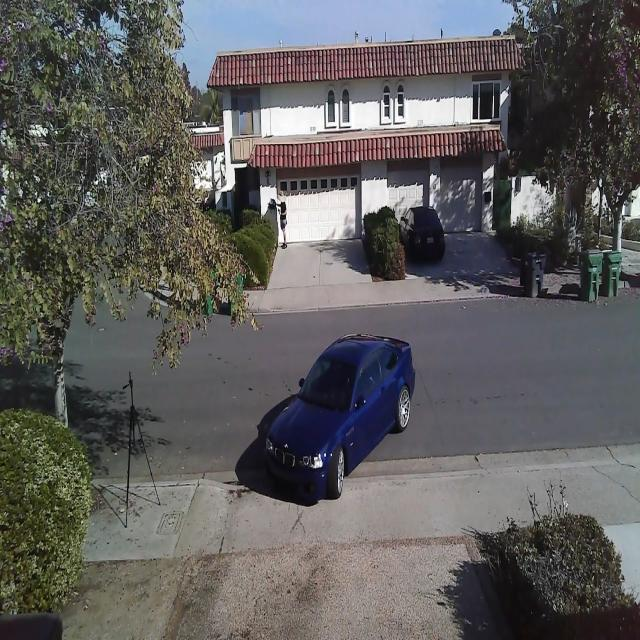Carbeetle: (248, 331, 429, 509)
Civilian: (399, 205, 445, 263)
